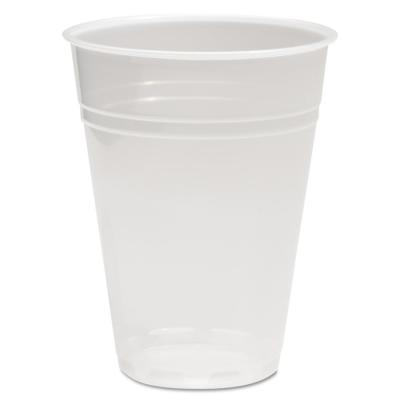plastic_glass: (60, 5, 357, 396)
